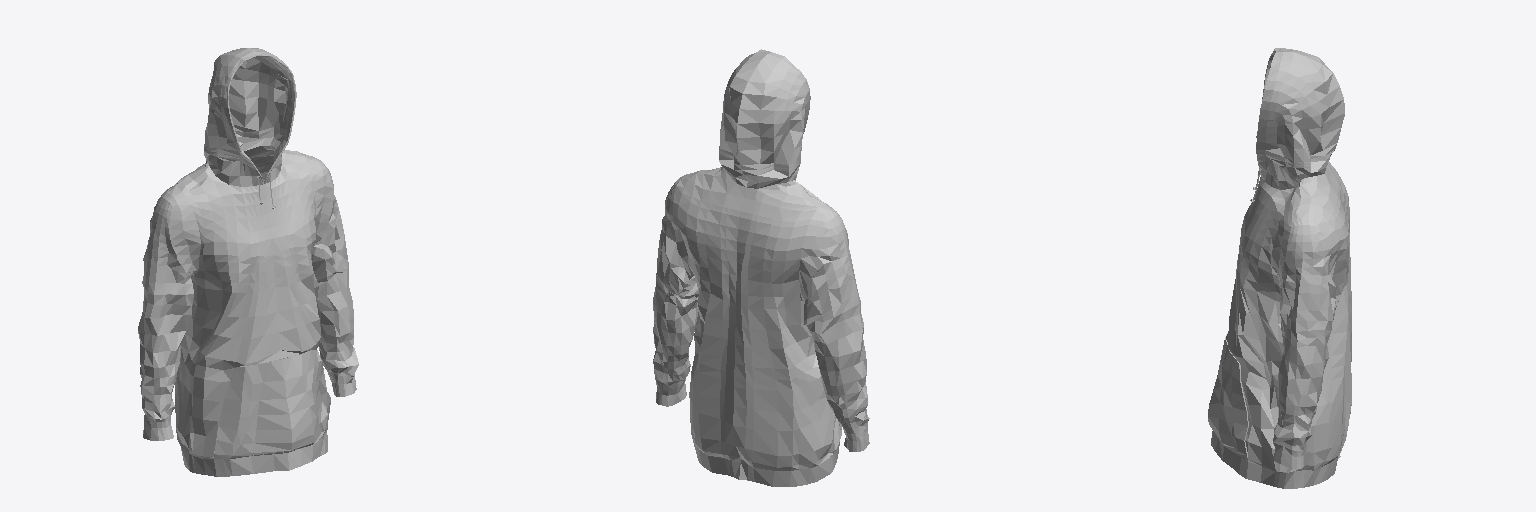
Rendered from hoodie_lp__.obj.
3 views of the same model, side by side, from view 1: azimuth 30°, elevation 25°; view 2: azimuth 150°, elevation 25°; view 3: azimuth 270°, elevation 25° (orthographic).
Visible parts, largest first — view 1: Body_lp, bottom_cuff, sleeve_cuffs; view 2: Body_lp, bottom_cuff, sleeve_cuffs; view 3: Body_lp, bottom_cuff, sleeve_cuffs.
Boxes of the visible parts, x1,y1,x2,y2 form: Body_lp: [138, 48, 358, 458]; bottom_cuff: [181, 434, 327, 476]; sleeve_cuffs: [143, 375, 356, 440]; Body_lp: [653, 49, 869, 470]; bottom_cuff: [693, 441, 839, 486]; sleeve_cuffs: [656, 379, 869, 451]; Body_lp: [1208, 48, 1351, 472]; bottom_cuff: [1211, 431, 1340, 488]; sleeve_cuffs: [1273, 444, 1304, 468].
Bounding box in the file's own units: 58.45 × 106 × 34.33.